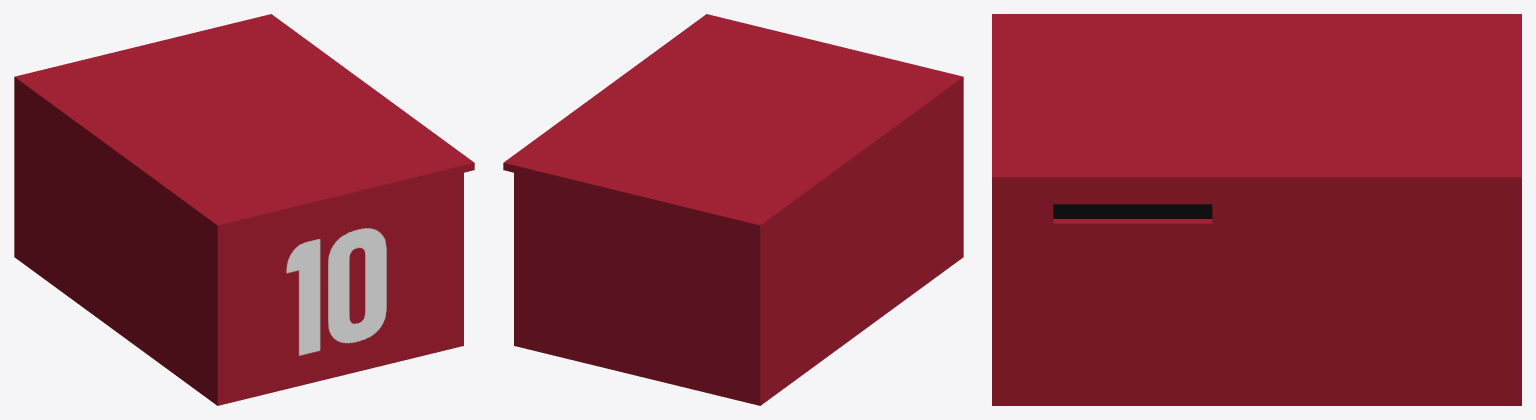
File: SM_BancaMessi.gltf
The picture shows the model from 3 angles, left to right: view 1: azimuth 30°, elevation 25°; view 2: azimuth 150°, elevation 25°; view 3: azimuth 270°, elevation 25°; orthographic projection. The views are drawn at different scales.
Parts seen in each view (by area): view 1: Bench; view 2: Bench; view 3: Bench.
Part boxes in pixels (bbox=[...]): Bench: bbox=[14, 14, 474, 405]; Bench: bbox=[503, 14, 963, 405]; Bench: bbox=[992, 14, 1521, 405].
Size of the model in its own units: 0.73 by 0.49 by 1.
Materials: 1 (1 with a texture image).
